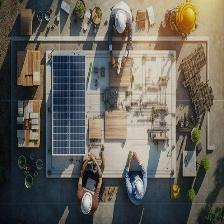Person: (106, 1, 137, 74), (76, 152, 102, 223), (124, 150, 152, 209)
helmet: (115, 11, 128, 32), (132, 180, 146, 198), (82, 191, 92, 216)
